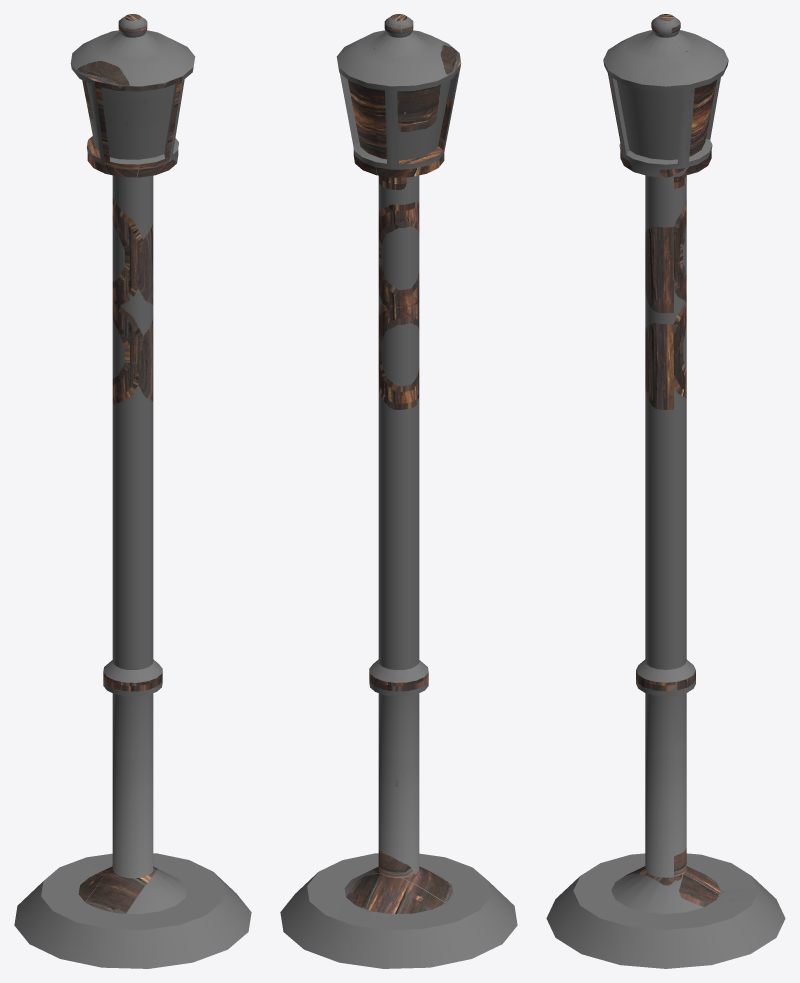
The model's file is Street_Lamp.fbx.
3 views of the same model, side by side, from view 1: azimuth 30°, elevation 25°; view 2: azimuth 150°, elevation 25°; view 3: azimuth 270°, elevation 25° (orthographic).
Visible parts, largest first — view 1: Street_Lamp; view 2: Street_Lamp; view 3: Street_Lamp.
Part boxes in pixels (<box>): Street_Lamp: <box>14,14,251,968</box>; Street_Lamp: <box>280,14,517,968</box>; Street_Lamp: <box>546,14,785,968</box>.
Size of the model in its own units: 96.24 by 400 by 96.24.
